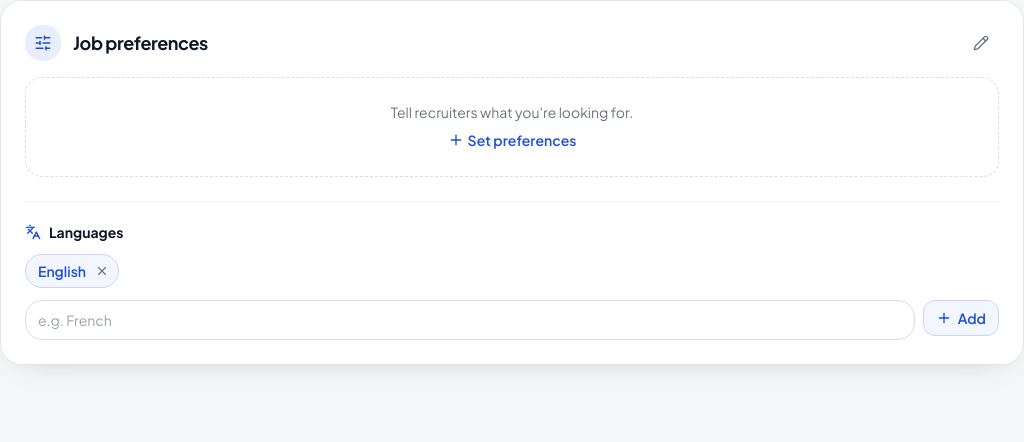
Test: PreferencesSection › adds a language
The width and height of the screenshot is (1024, 442).
In the field named "Language": point(470, 320) [25, 300, 915, 340], type "French"
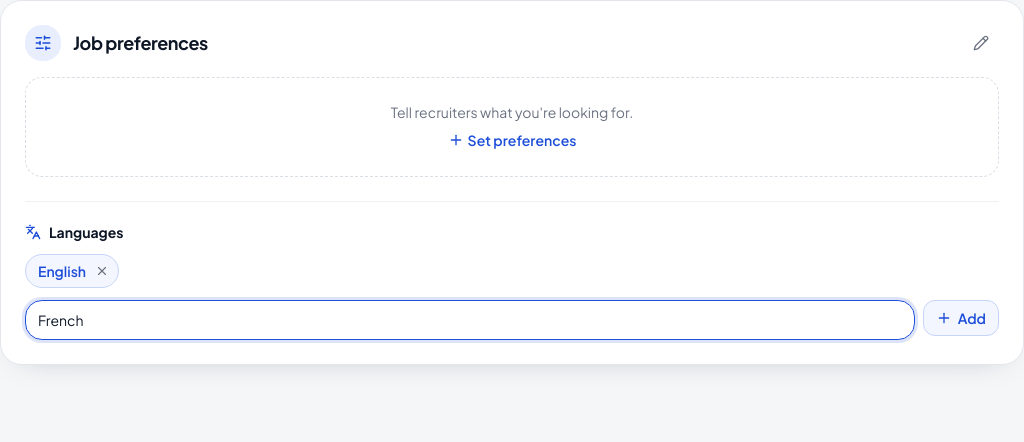
Click the button "Add": point(961, 318) [923, 300, 999, 336]
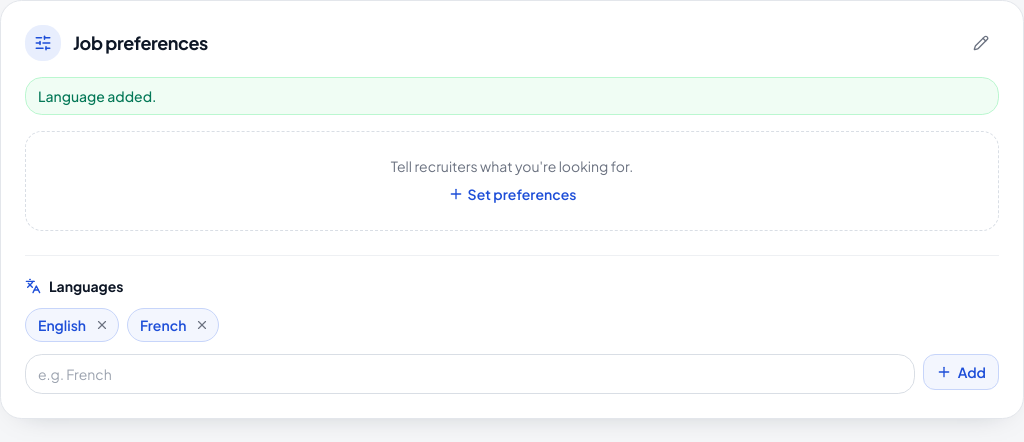
Expected: the text "Language added." is shown, [25, 77, 999, 115]
Expected: the list items read "English", "French", in this order, [25, 308, 119, 342]; [127, 308, 219, 342]
